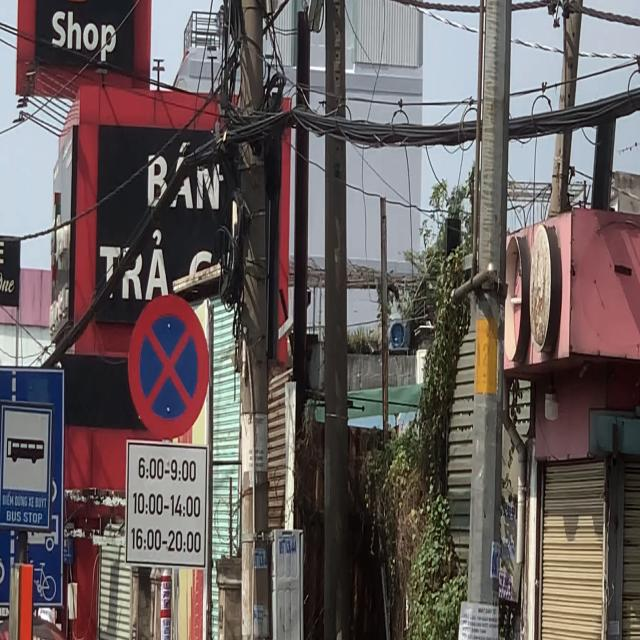Ben xe buyt: (0, 403, 53, 536)
Cam dung va do: (127, 293, 210, 440)
